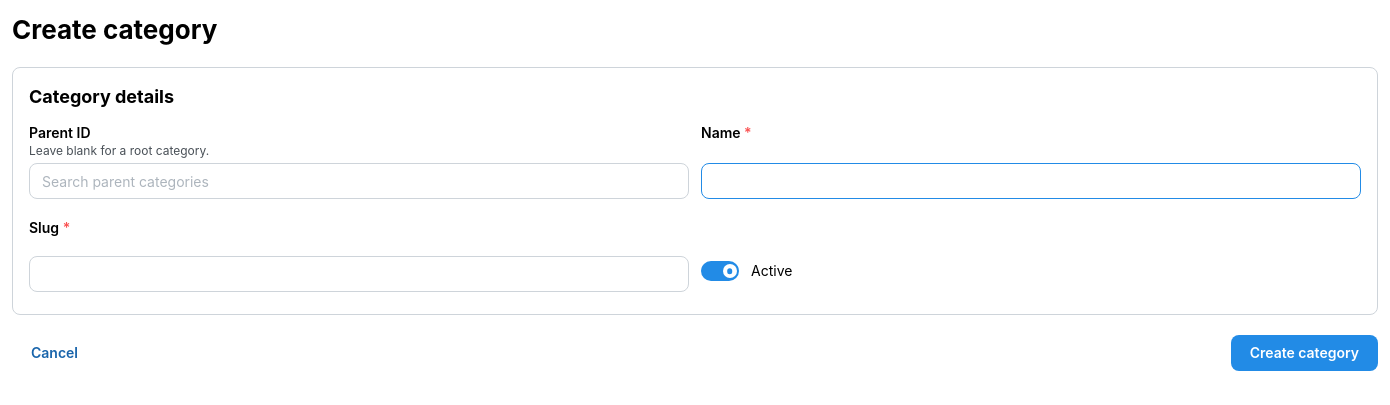
Test case: CategoryFormView › validates hierarchy fields and submits without ordinary confirmation
Later steps or results of the test are not shown.
Click the button "Create category" at (1304, 353), box [1231, 335, 1378, 371]
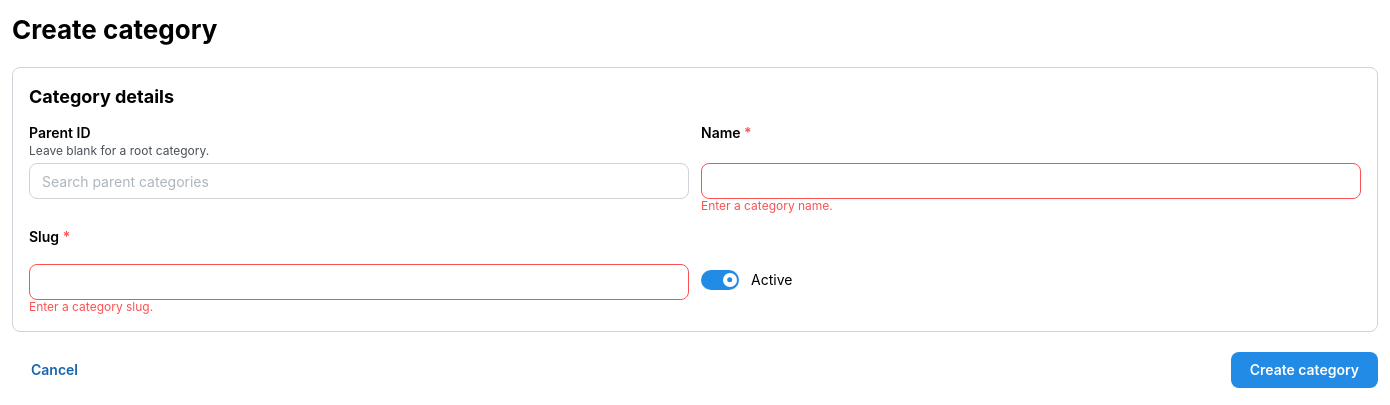
Expected: the text "Enter a category name." is shown, [701, 198, 833, 213]
Expected: the text "Enter a category slug." is shown, [29, 299, 153, 314]
